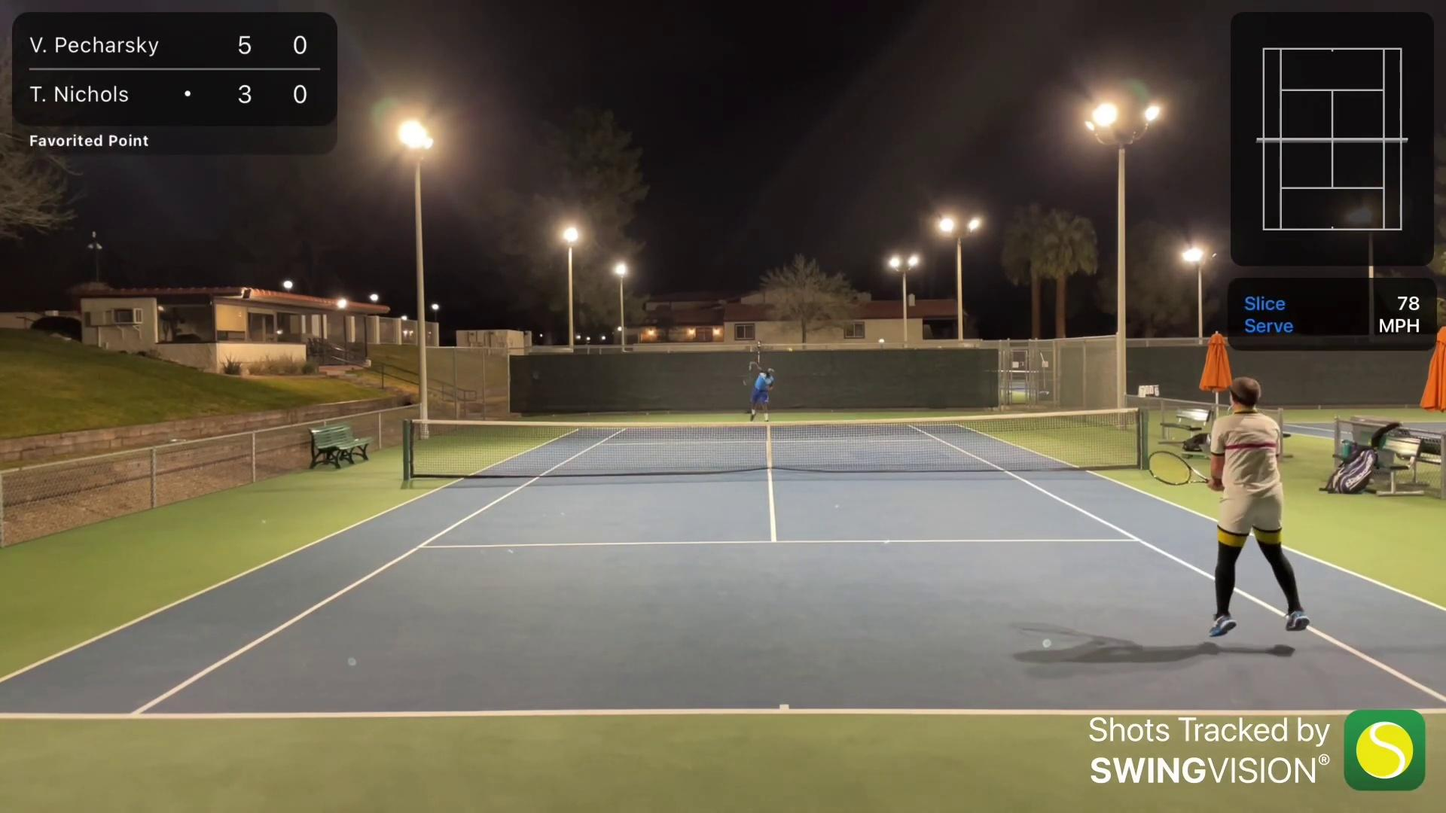ball: (788, 347, 795, 354)
